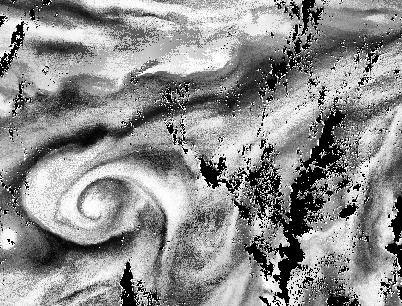CE: (56, 153, 142, 244)
